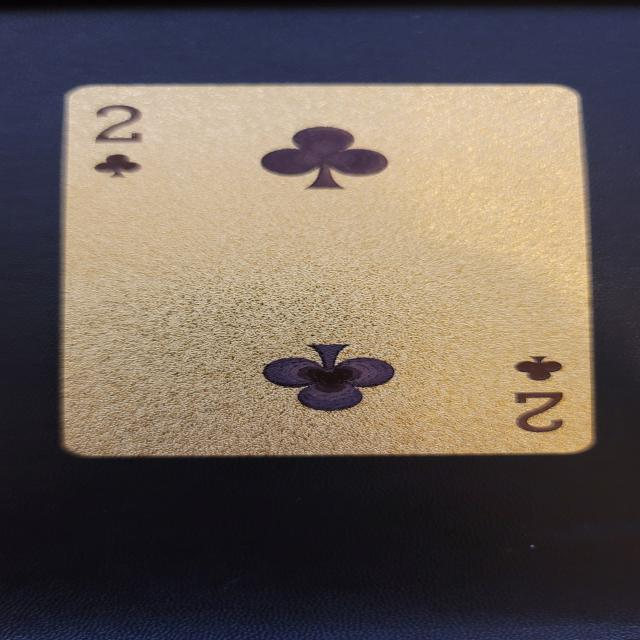2 of clubs: (63, 84, 594, 458)
